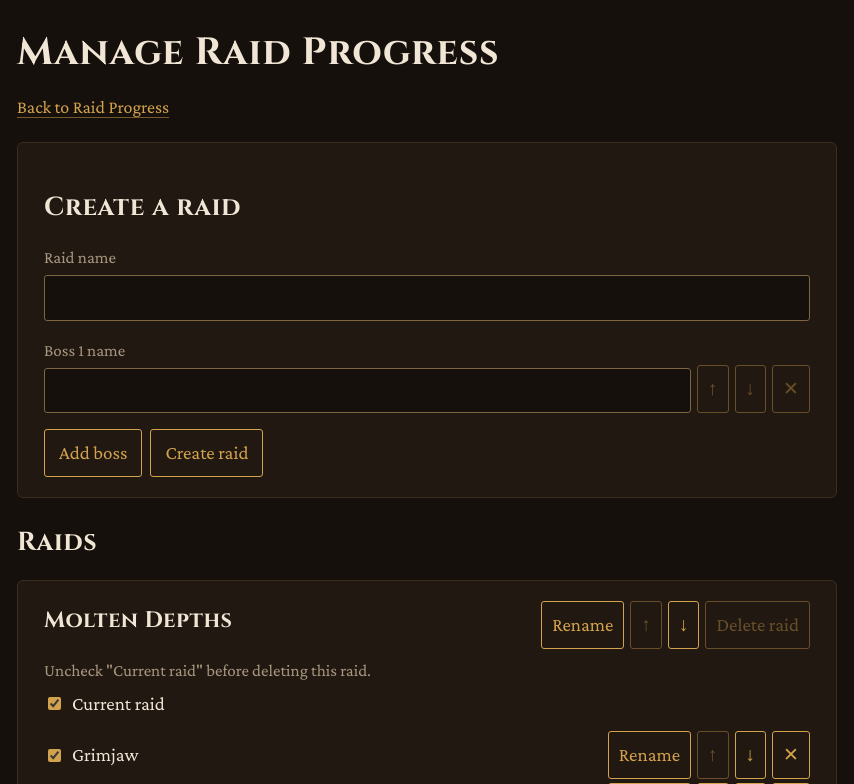
Test: OfficerRaidProgress › should show the API error message when deleting a boss is rejected
The image size is (854, 784).
Step 1. Click the button named "Delete Grimjaw" → x=791, y=755, box [772,731,810,779]
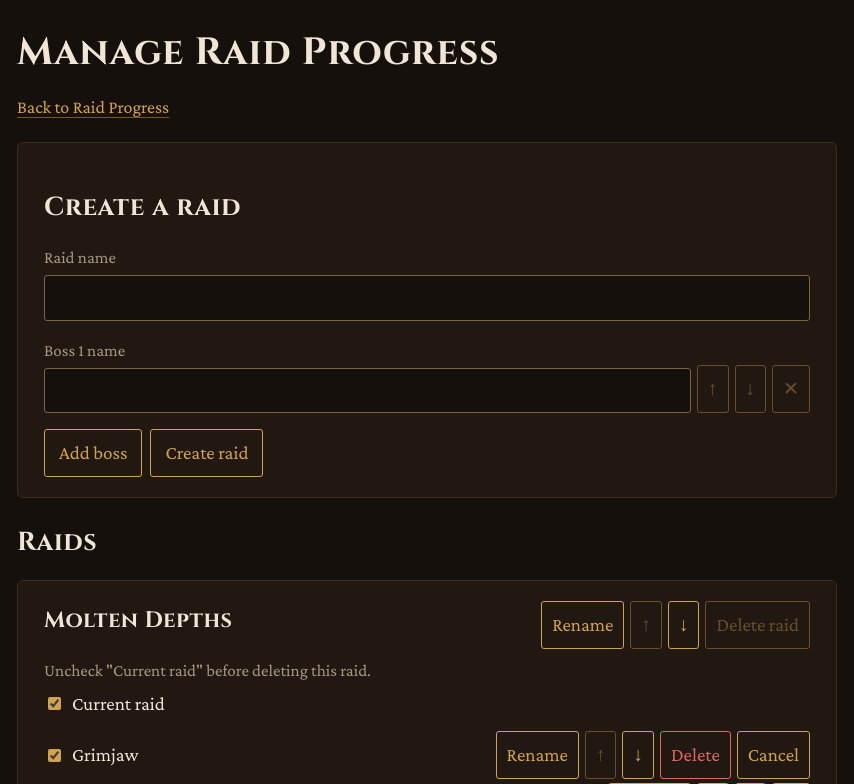
Step 2. Click the button with aria-label "Confirm delete Grimjaw" → x=695, y=755, box [660,731,731,779]
(page scrolled)
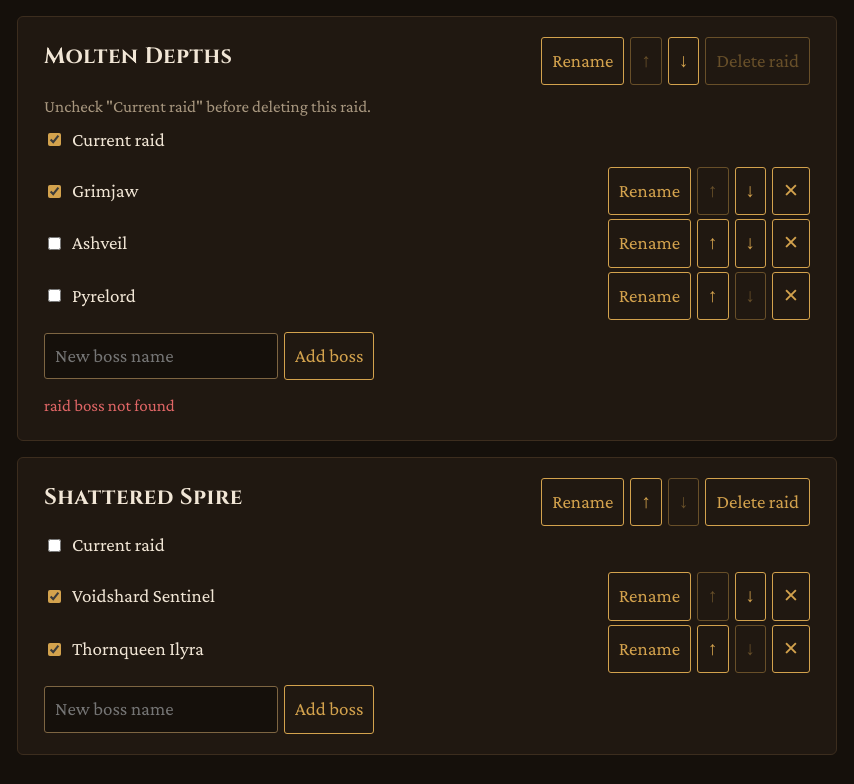
Check: the message reads "raid boss not found", box [44,396,175,416]
